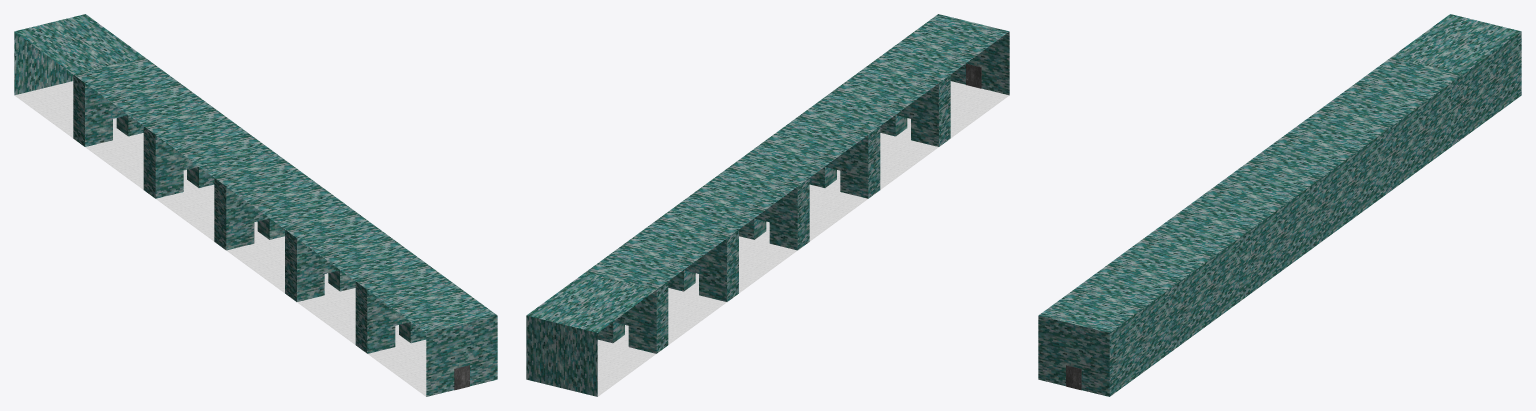
File: mirror room 1.fbx
3 views of the same model, side by side, from view 1: azimuth 30°, elevation 25°; view 2: azimuth 150°, elevation 25°; view 3: azimuth 330°, elevation 25° (orthographic).
Parts seen in each view (by area): view 1: polySurface61, polySurface6, polySurface98, polySurface100, polySurface101, polySurface102, polySurface103, polySurface56, polySurface99, pPlane7, polySurface28; view 2: polySurface61, polySurface6, polySurface100, polySurface102, polySurface98, polySurface101, polySurface103, pPlane7, polySurface99, polySurface56, polySurface28; view 3: polySurface98, polySurface100, polySurface101, polySurface102, polySurface103, polySurface56, polySurface99, polySurface61, polySurface44, polySurface49, polySurface46, polySurface48 (+2 smaller).
Part boxes in pixels (box(x1,y1,x2,y2)): polySurface61: box(73, 75, 426, 353); polySurface6: box(14, 81, 426, 396); polySurface98: box(73, 57, 214, 125); polySurface100: box(144, 109, 285, 177); polySurface101: box(215, 160, 355, 229); polySurface102: box(285, 212, 426, 280); polySurface103: box(356, 264, 497, 332); polySurface56: box(426, 315, 497, 396); polySurface99: box(14, 14, 143, 74); pPlane7: box(14, 31, 73, 95); polySurface28: box(116, 115, 410, 342); polySurface61: box(597, 75, 950, 353); polySurface6: box(597, 81, 1009, 396); polySurface100: box(656, 169, 797, 237); polySurface102: box(797, 66, 938, 134); polySurface98: box(585, 221, 726, 289); polySurface101: box(727, 117, 867, 186); polySurface103: box(868, 14, 1009, 82); pPlane7: box(526, 315, 597, 396); polySurface99: box(526, 272, 655, 332); polySurface56: box(950, 31, 1009, 95); polySurface28: box(613, 115, 907, 342); polySurface98: box(1321, 57, 1462, 125); polySurface100: box(1250, 109, 1391, 177); polySurface101: box(1180, 160, 1320, 229); polySurface102: box(1109, 212, 1250, 280); polySurface103: box(1038, 264, 1179, 332); polySurface56: box(1038, 315, 1109, 396); polySurface99: box(1392, 14, 1521, 74); polySurface61: box(1168, 75, 1462, 353); polySurface44: box(1462, 31, 1521, 137); polySurface49: box(1109, 290, 1168, 396); polySurface46: box(1321, 135, 1380, 241); polySurface48: box(1180, 238, 1238, 344).
Size of the model in its own units: 7 by 6 by 70.15.
Materials: 10 (9 with a texture image).
